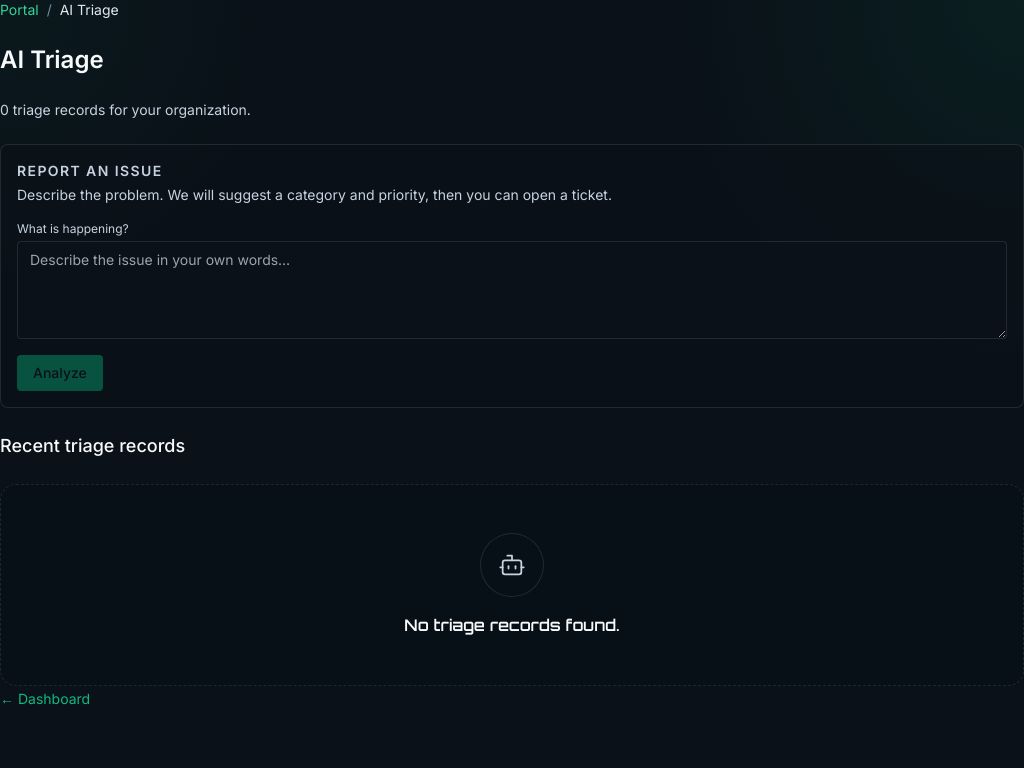
AiTriagePage › converts the analysis into a ticket
This screenshot has width=1024, height=768.
Type "The VPN keeps dropping for our team" into the text box with placeholder "Describe the issue in your own words…" at (512, 290), box [17,241,1007,339]
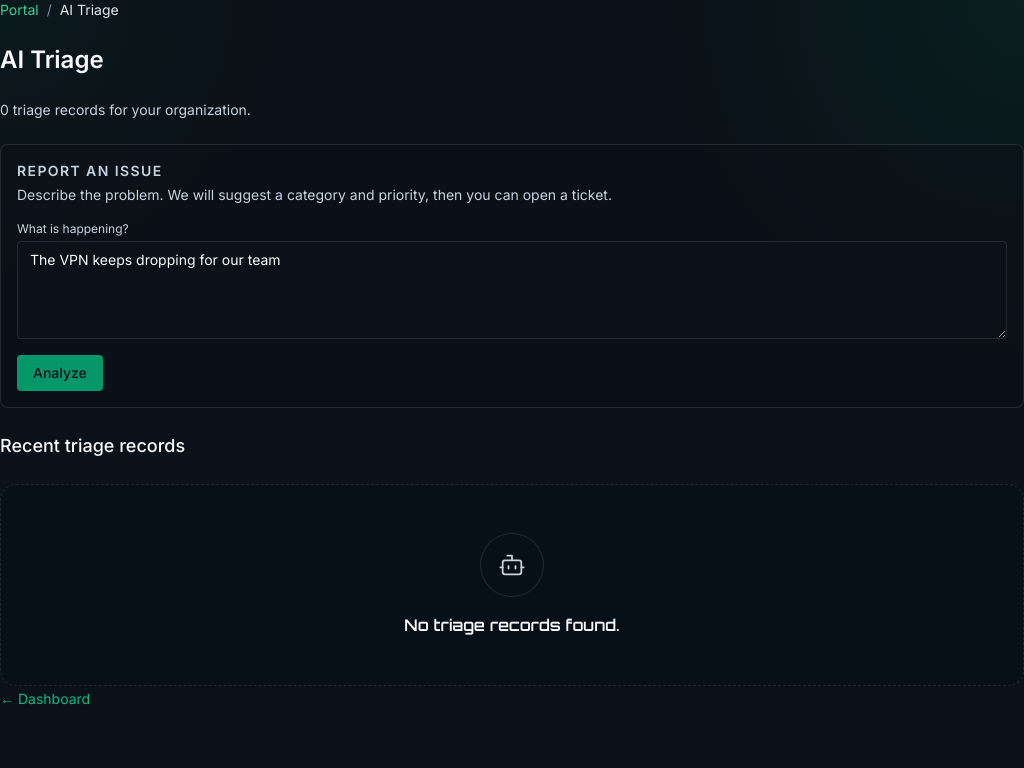
Click the button "Analyze" at (60, 373), box [17,355,103,391]
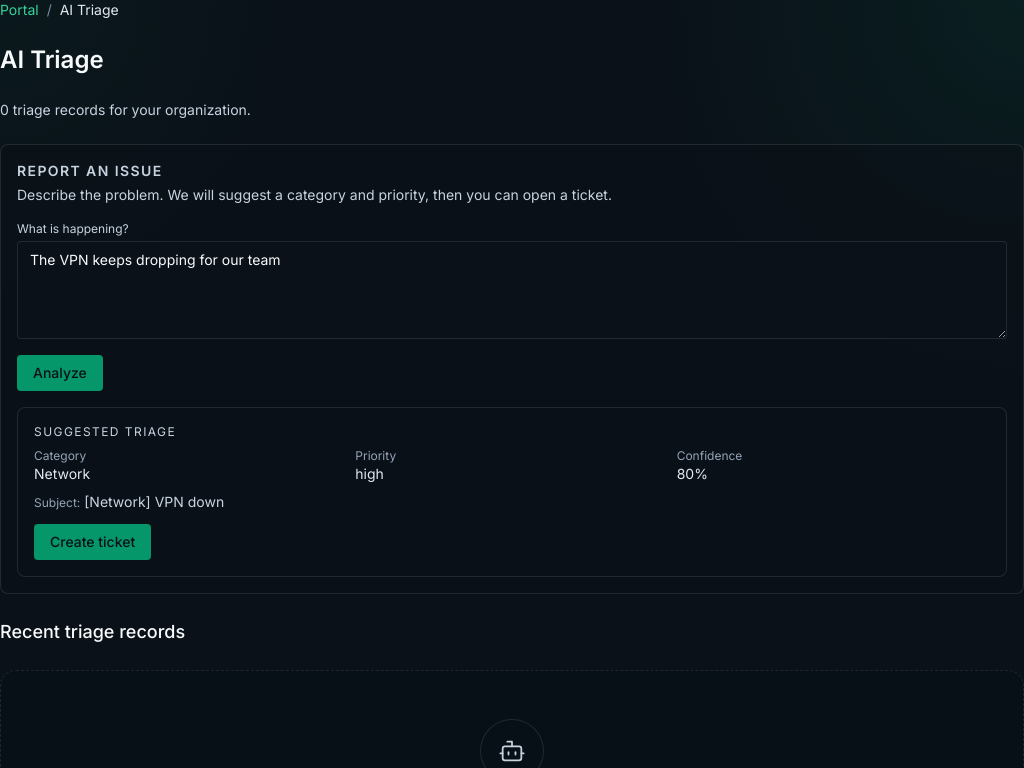
Click the button "Create ticket" at (93, 542), box [34,524,151,560]
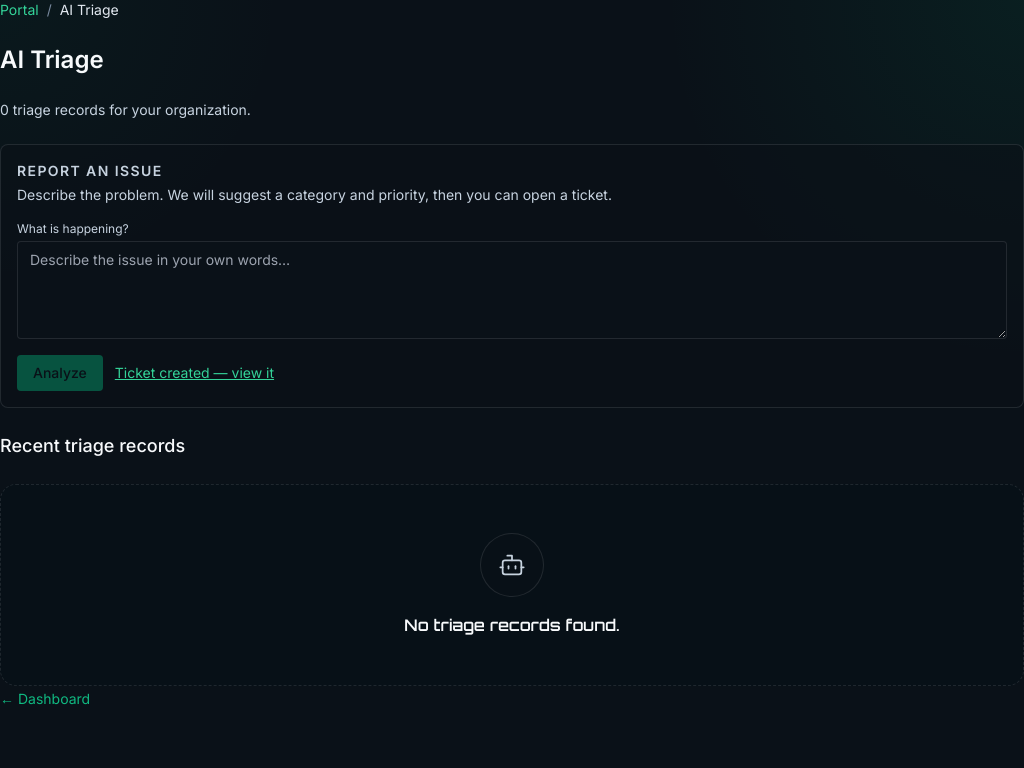
Expected: the link "Ticket created — view it" is shown, [115,363,274,383]
